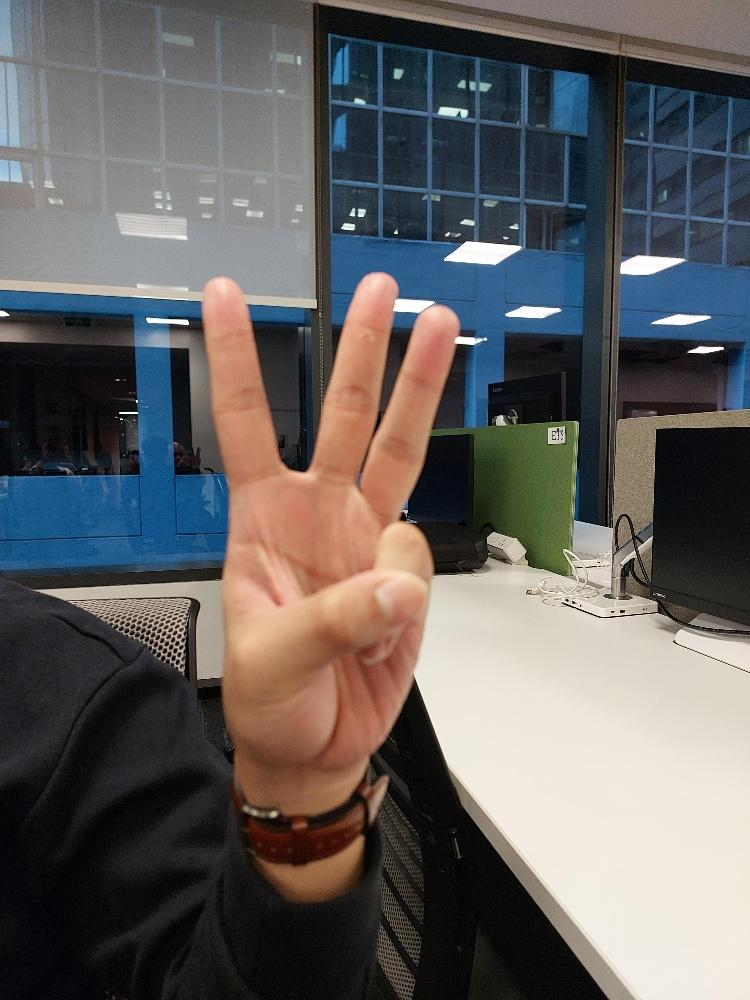w: (200, 270, 458, 763)
